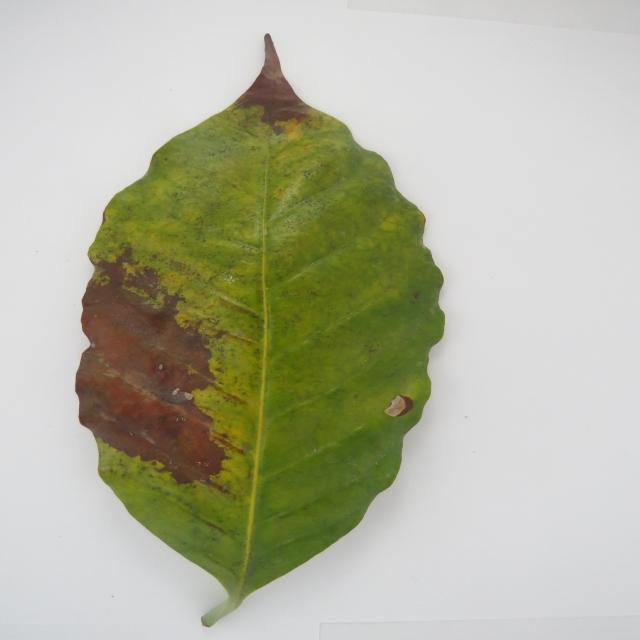DeficienciaNutricional-Potasio: (77, 35, 443, 626)
